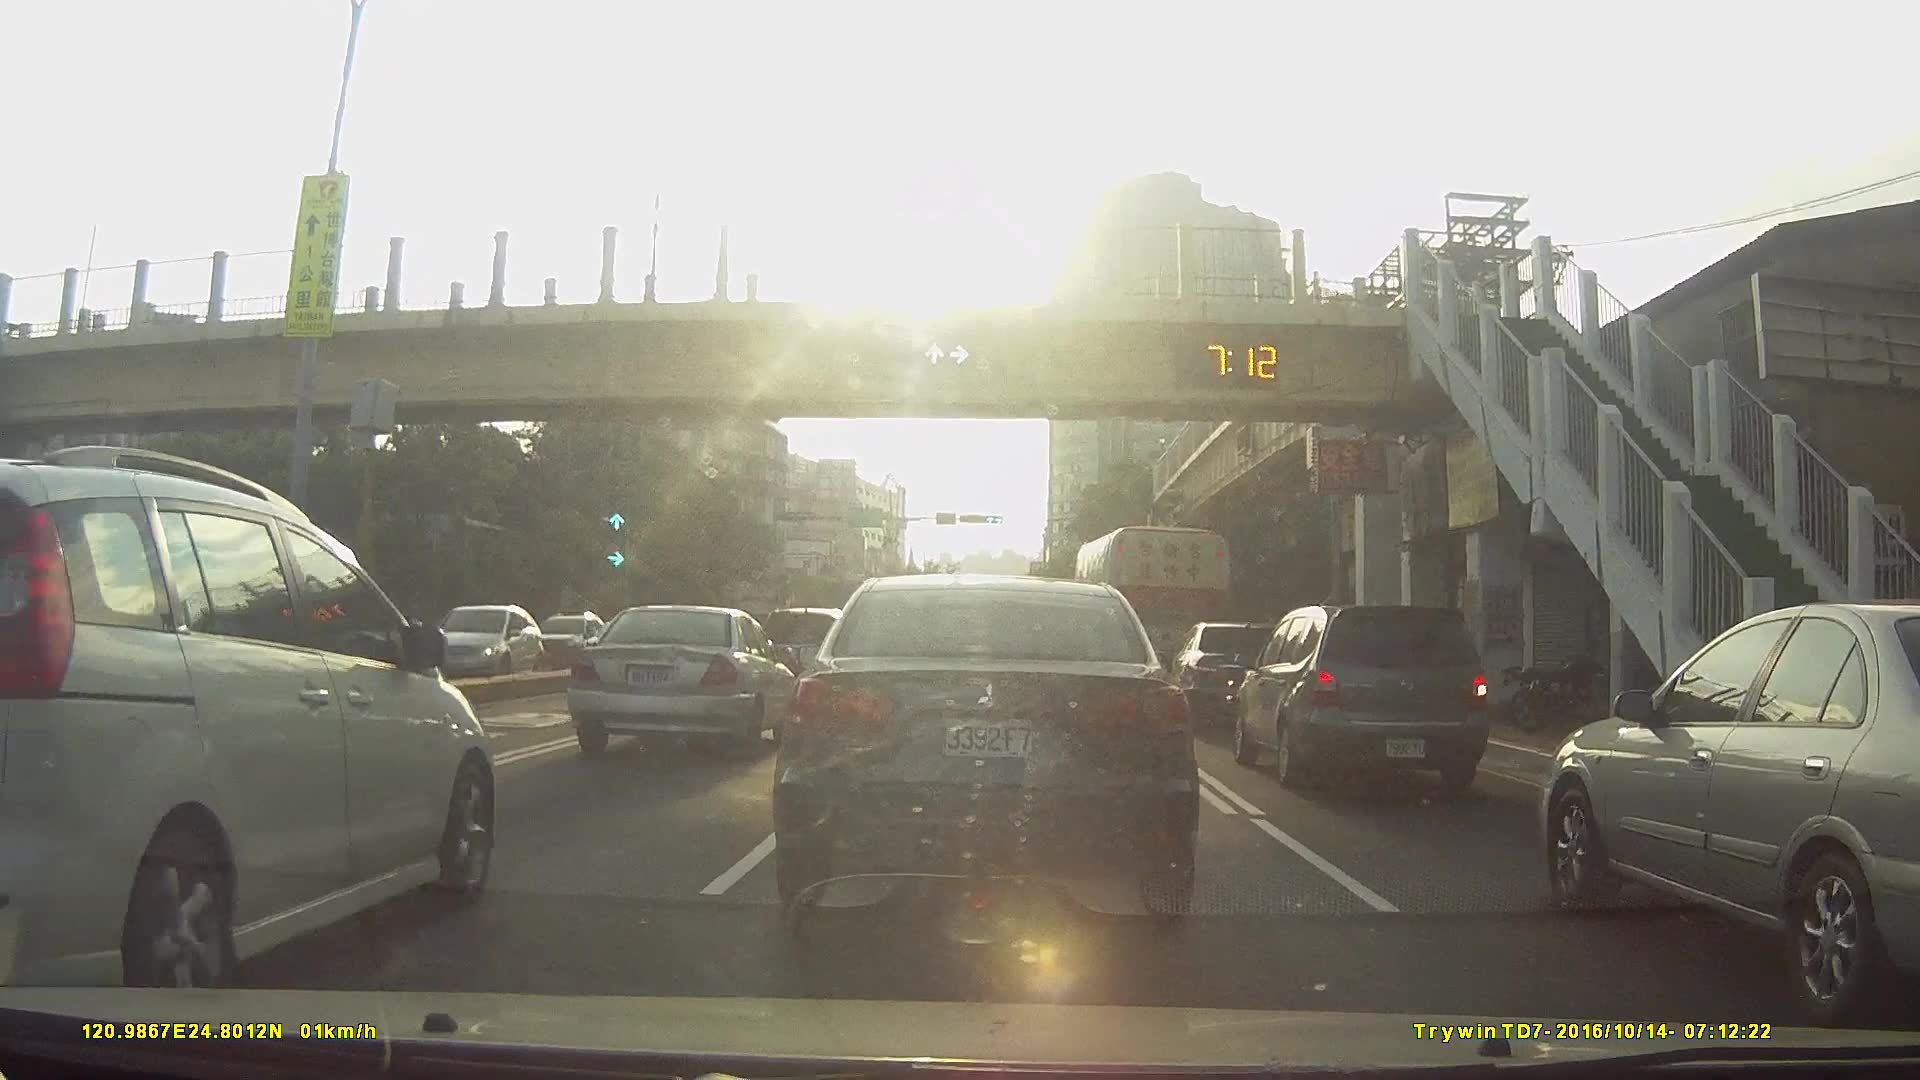vehicle: (0, 448, 506, 1013), (1543, 597, 1920, 1027), (781, 574, 1199, 930), (1232, 604, 1491, 794), (578, 604, 807, 757), (1170, 622, 1298, 727), (742, 604, 843, 702), (429, 603, 554, 676), (521, 611, 622, 678)
